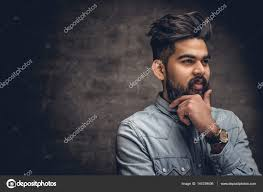Indian_Male: (162, 32, 214, 95)
